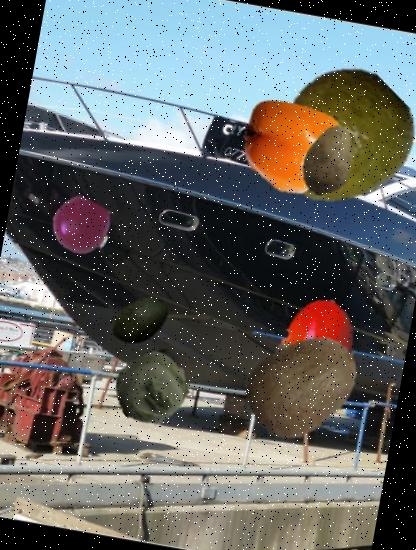Avocado: (105, 285, 176, 356)
Guava: (259, 56, 416, 221)
Kaki: (264, 291, 375, 402)
Kiwi: (233, 315, 374, 457)
Kohlrabi: (108, 346, 194, 432)
Pepper: (232, 89, 348, 205)
Potato: (286, 118, 368, 201)
Redcurrant: (48, 193, 115, 260)
